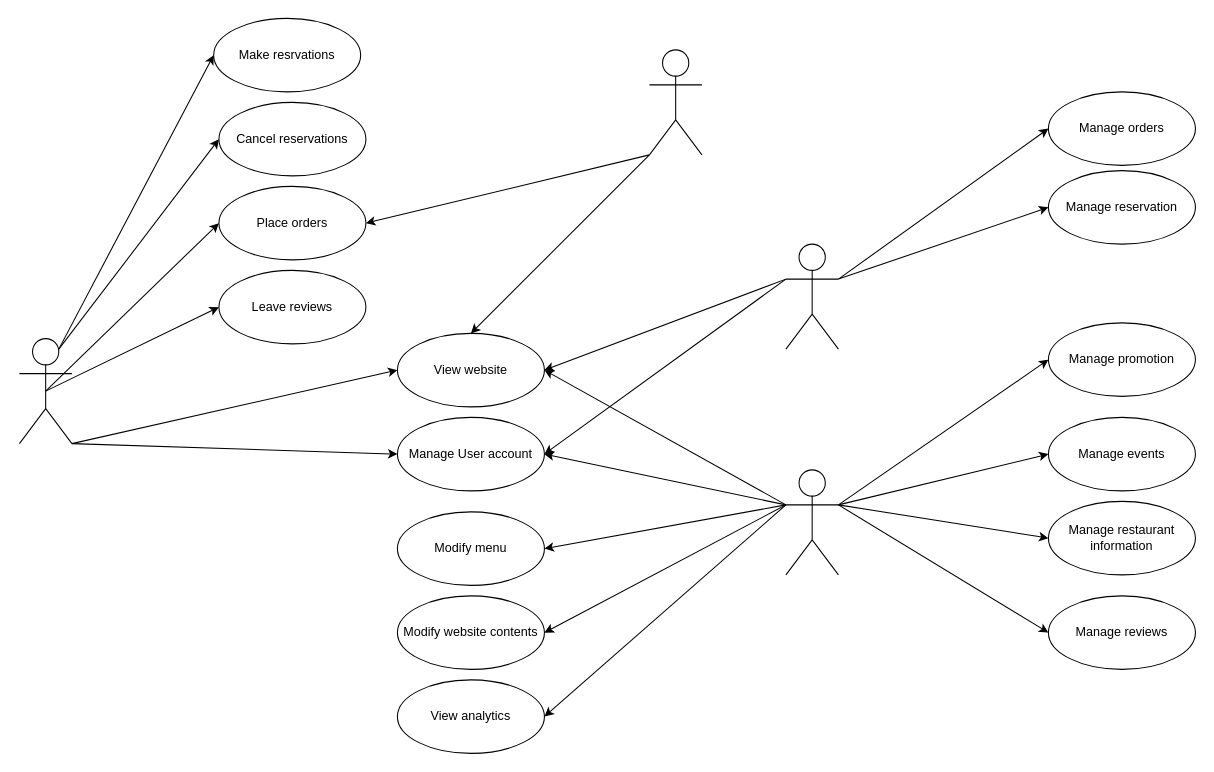
Some shapes in this 1214 by 772 pixel diagram are drawn without their labels. Here are the shapes that lost their labels. From the top down, the centre of each, then its label:
(675,102): Visitor
(811,296): Staff
(45,391): Customer
(811,522): Admin
